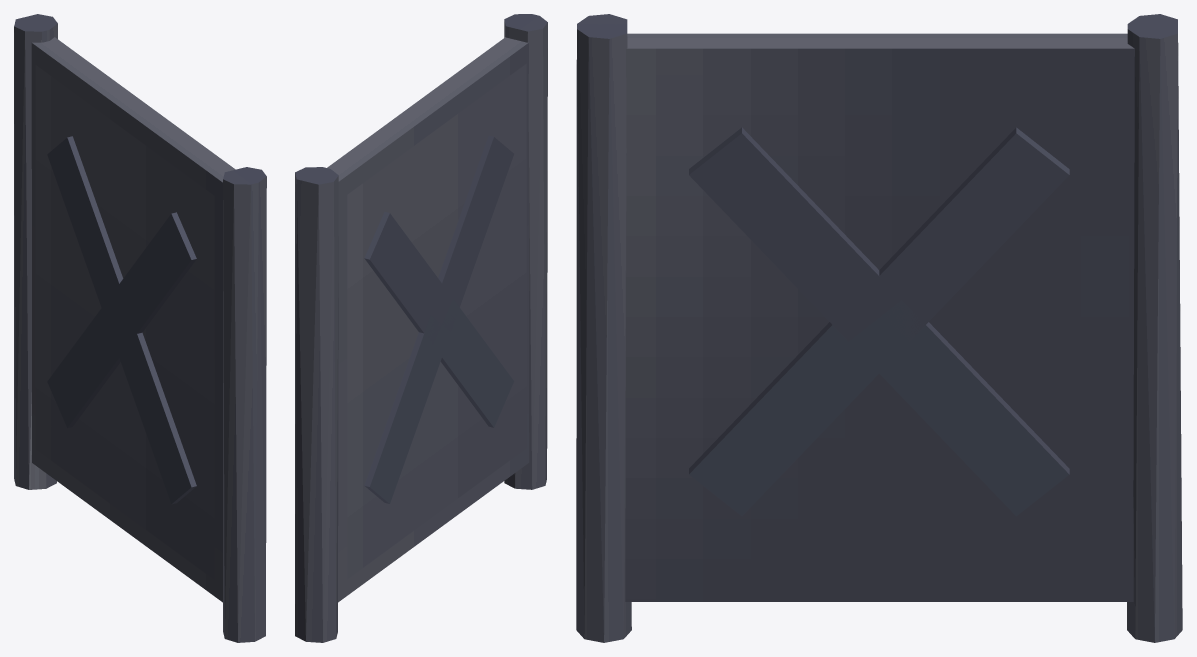
Rendered from xbarrier1.fbx.
3 views of the same model, side by side, from view 1: azimuth 30°, elevation 25°; view 2: azimuth 150°, elevation 25°; view 3: azimuth 270°, elevation 25° (orthographic). The views are drawn at different scales.
Visible parts, largest first — view 1: Cylinder.007; view 2: Cylinder.007; view 3: Cylinder.007.
Part boxes in pixels (box(x1,y1,x2,y2)): Cylinder.007: box(14, 14, 266, 642); Cylinder.007: box(295, 14, 547, 642); Cylinder.007: box(576, 14, 1182, 642).
Size of the model in its own units: 54 by 567 by 516.
